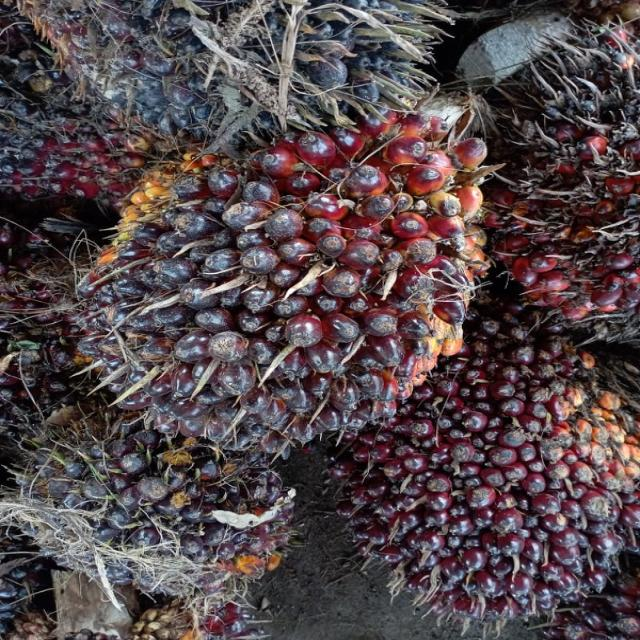fraksi 1: (39, 58, 552, 472)
